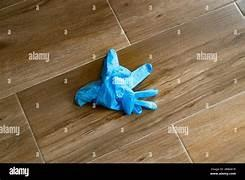Glove: (75, 49, 157, 114)
